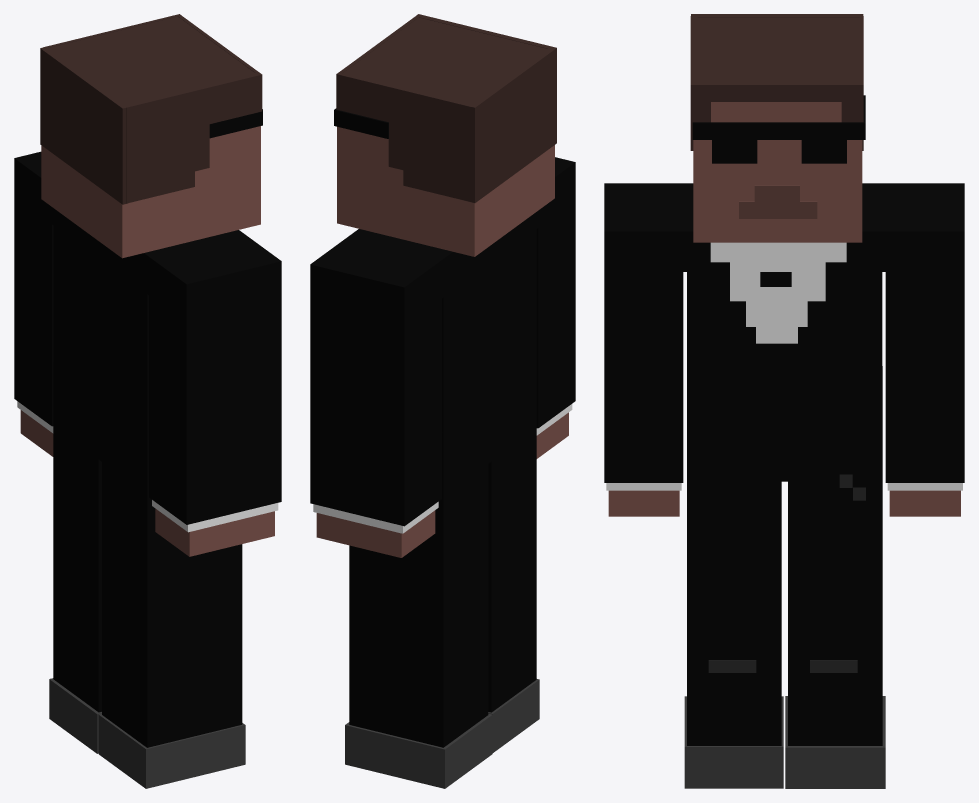
Rendered from Steve.fbx.
3 views of the same model, side by side, from view 1: azimuth 30°, elevation 25°; view 2: azimuth 150°, elevation 25°; view 3: azimuth 270°, elevation 25° (orthographic). The views are drawn at different scales.
Visible parts, largest first — view 1: Cube.006, Cube.001, Cube.004, Cube.002, Cube.013, Cube.041, Cube.011, Cube.058, Cube, Cube.007, Cube.056, Cube.054 (+9 smaller); view 2: Cube.011, Cube.002, Cube.004, Cube.001, Cube.013, Cube.041, Cube.006, Cube.058, Cube.003, Cube.010, Cube.043, Cube.044 (+10 smaller); view 3: Cube.004, Cube.001, Cube.002, Cube.006, Cube.011, Cube.013, Cube.041, Cube.003, Cube, Cube.012, Cube.042, Cube.015 (+16 smaller).
Part boxes in pixels (x1,y1,x2,y2): Cube.006: (149,233,281,524); Cube.001: (102,412,242,747); Cube.004: (53,208,241,494); Cube.002: (53,362,101,712); Cube.013: (41,126,260,258); Cube.041: (48,16,254,104); Cube.011: (14,151,53,426); Cube.058: (40,47,126,204); Cube: (98,714,245,788); Cube.007: (155,508,274,556); Cube.056: (125,73,262,123); Cube.054: (126,95,262,144); Cube.011: (310,237,441,526); Cube.002: (349,432,488,747); Cube.004: (349,212,536,495); Cube.001: (488,365,536,712); Cube.013: (337,126,554,256); Cube.041: (342,17,546,104); Cube.006: (536,157,575,428); Cube.058: (471,47,556,202); Cube.003: (345,713,492,788); Cube.010: (316,510,435,557); Cube.043: (336,72,472,122); Cube.044: (336,90,471,138); Cube.004: (687,183,882,481); Cube.001: (687,414,781,745); Cube.002: (788,366,882,745); Cube.006: (604,183,683,482); Cube.011: (885,183,964,482); Cube.013: (693,102,862,242); Cube.041: (697,17,859,83); Cube.003: (785,696,885,788); Cube: (684,696,783,788); Cube.012: (611,183,944,271); Cube.042: (696,83,859,101); Cube.015: (710,242,846,262).
Size of the model in its own units: 70.38 by 326 by 149.
